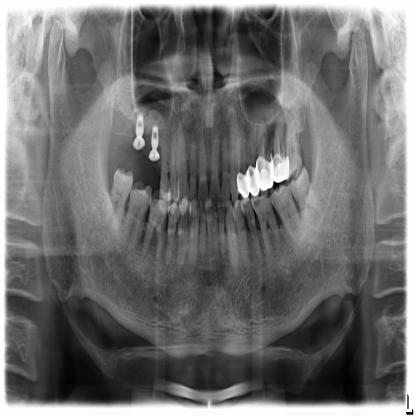Bicon: (132, 112, 146, 135), (148, 124, 160, 149)
